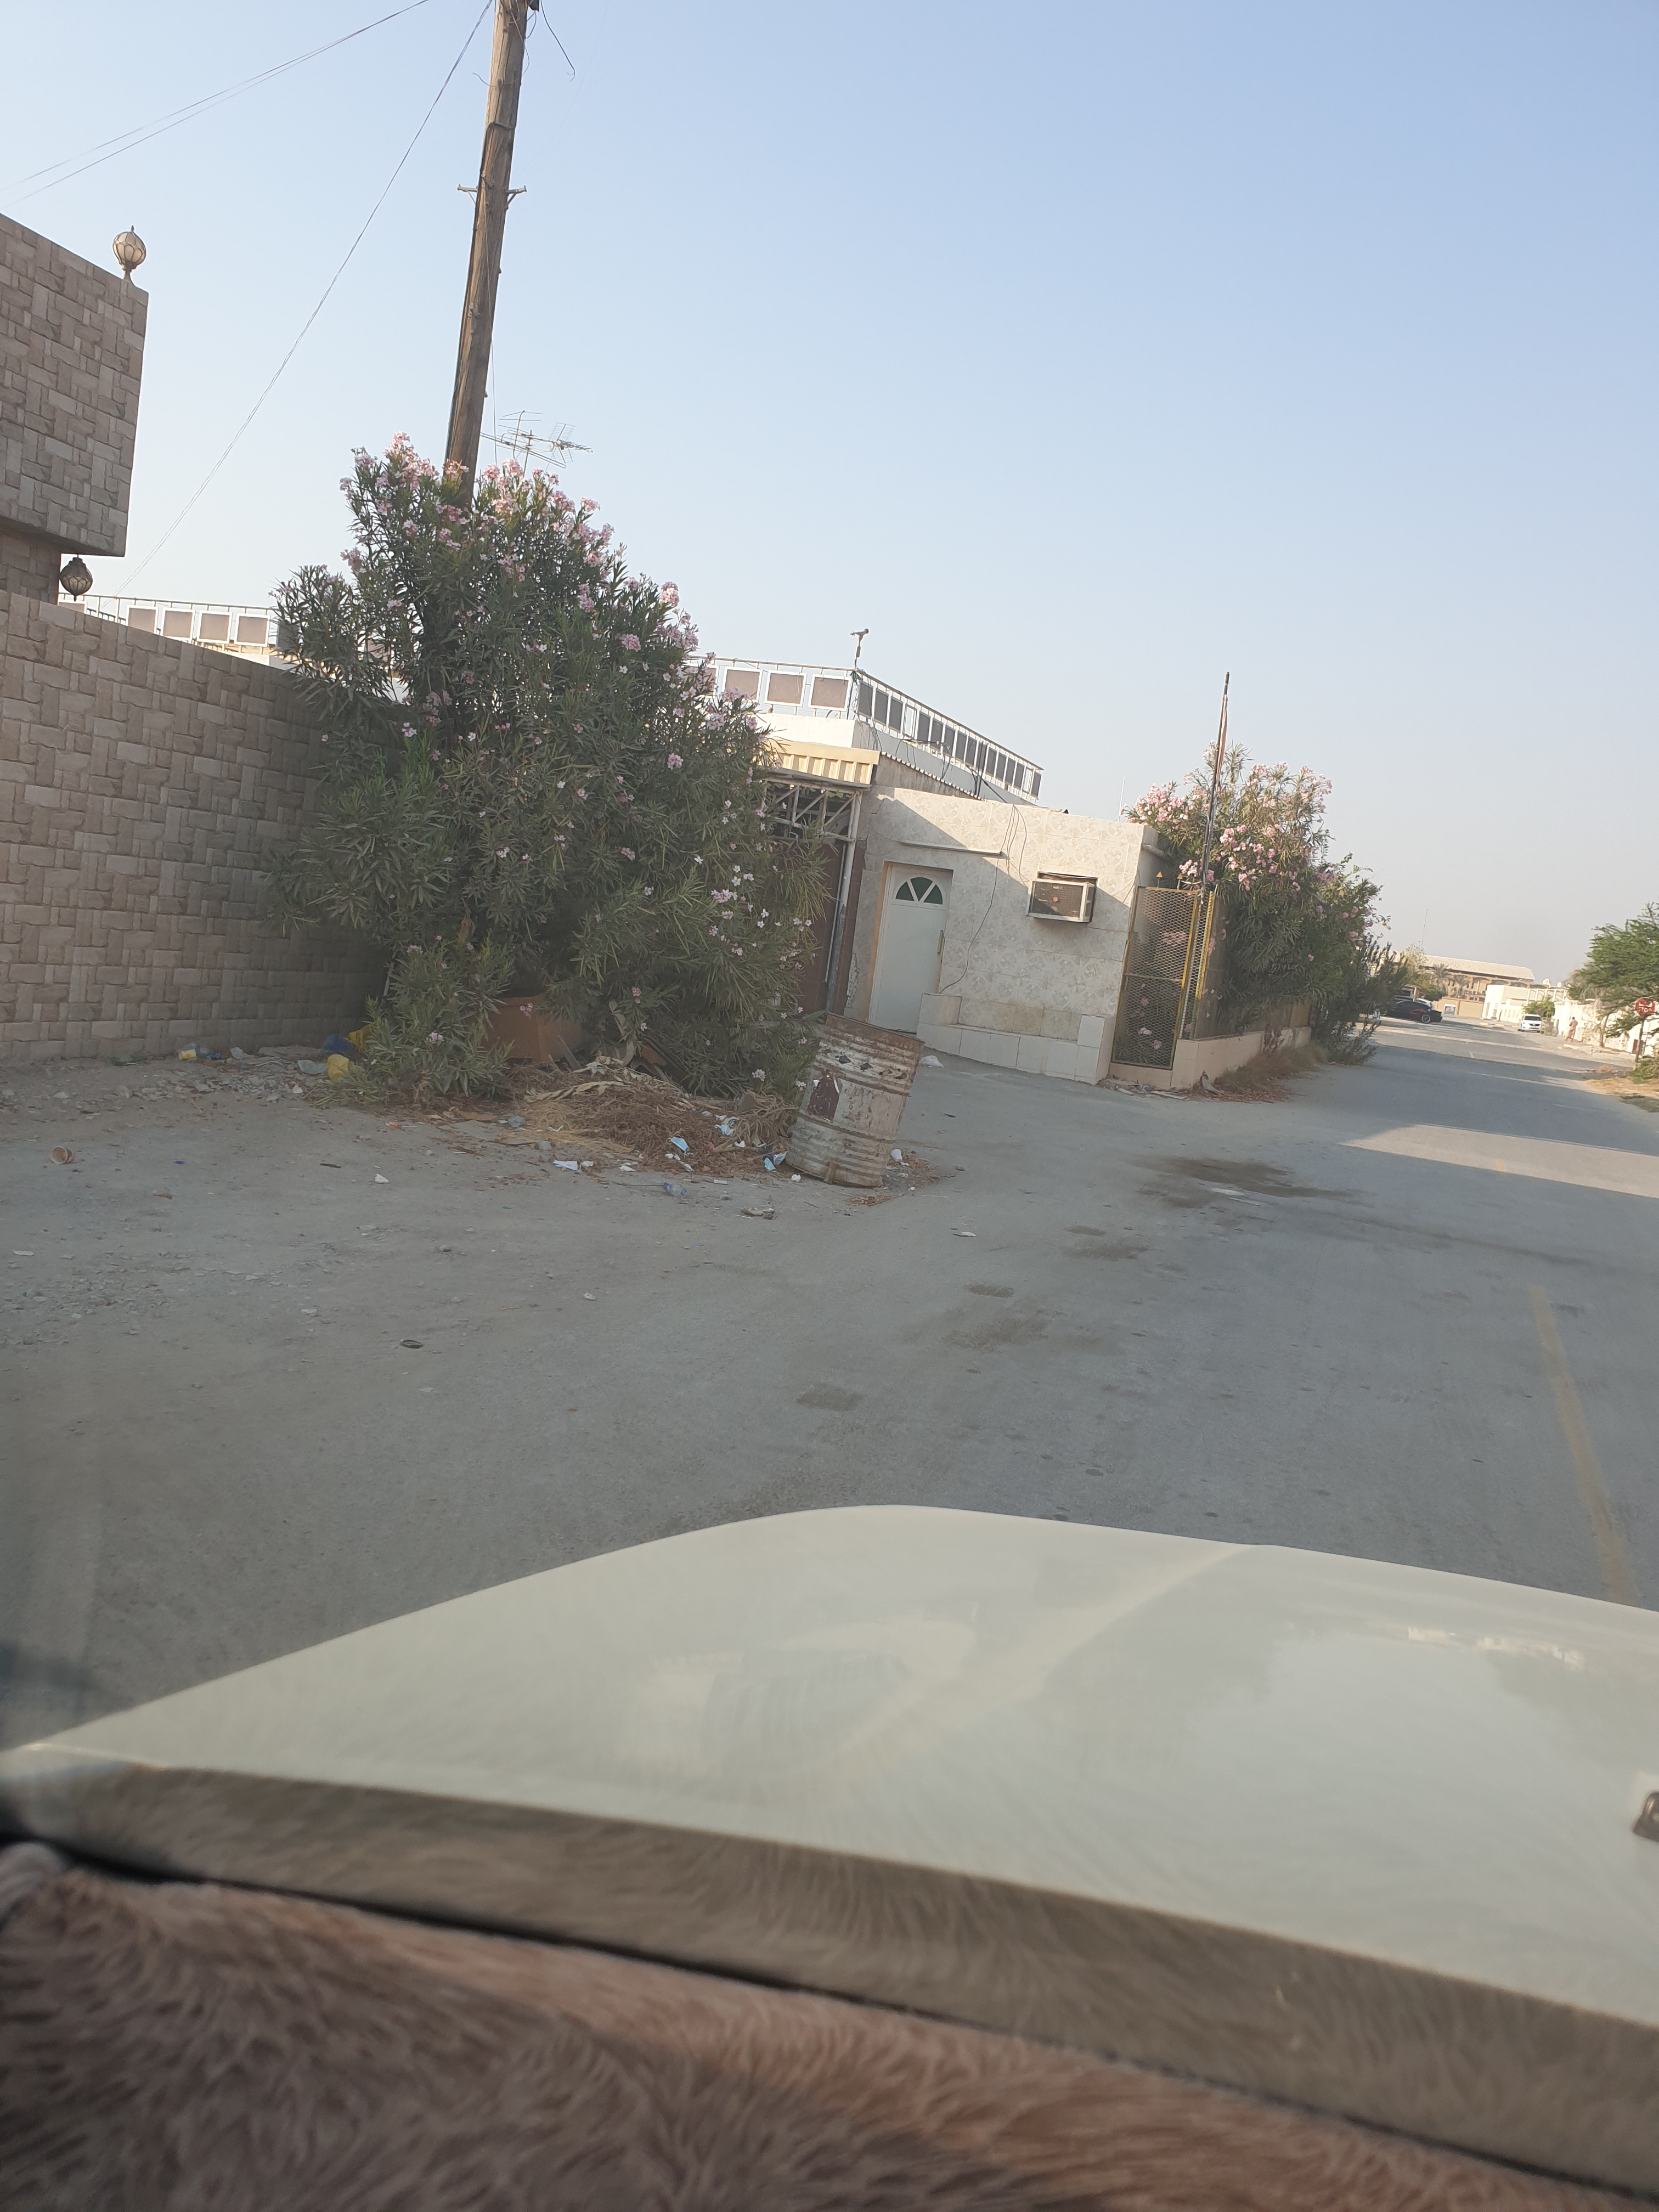fallen_trees: (552, 1092, 814, 1197)
